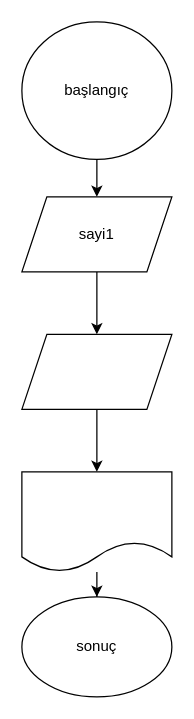
The diagram is 194 pixels wide and 719 high, and some of its shapes have lost their labels. Here are the shapes that lost their labels. From the top down, the centre of each, then its label:
(96,371): sayi2
(96,521): sayi1+sayi2
